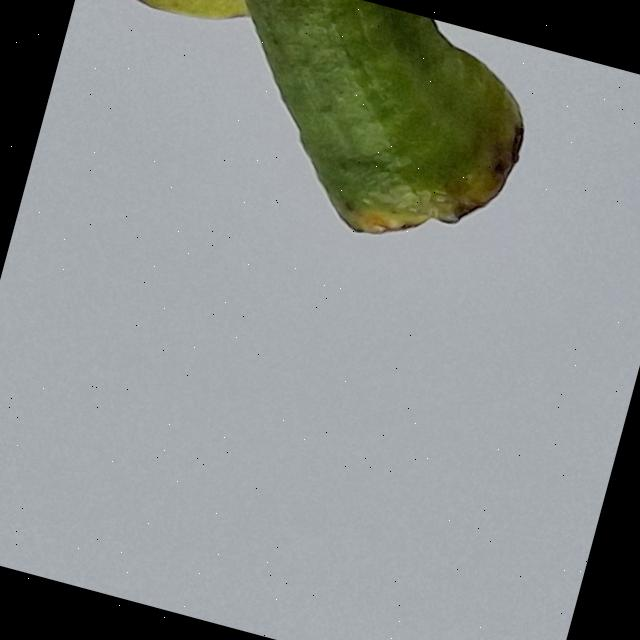mangosteen: (15, 0, 640, 388)
